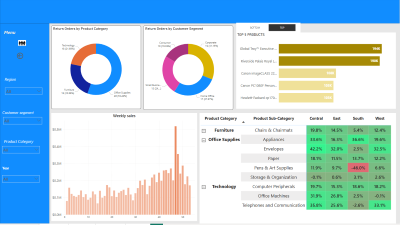

The dashboard page shown, as its layout file describes it:
{"tool":"powerbi","page":{"name":"Product ","canvas":[1920,1080],"ordinal":1},"visuals":[{"type":"shape","box":[0,0,1920.4,118.6],"z":0},{"type":"slicer","fields":{"Values":["Customer.Customer Segment"]},"box":[3.9,558.8,207.6,61],"z":0,"group":"g1"},{"type":"slicer","fields":{"Values":["Customer.Region"]},"box":[14.1,417.3,198.8,64.5],"z":1000,"group":"g1"},{"type":"pivotTable","fields":{"Rows":["Product-category.Product Category","ProductSub-category.Product Sub-Category"],"Values":["_measures.%Profit"],"Columns":["Customer.Region"]},"box":[959.3,549.4,943.6,530.2],"z":1000},{"type":"shape","box":[0,118.5,237,960.2],"z":2000},{"type":"slicer","fields":{"Values":["Product-category.Product Category"]},"box":[0.1,696.8,201.2,63.9],"z":2000,"group":"g1"},{"type":"textbox","box":[14.6,667.1,164.1,50.7],"z":3000,"group":"g1"},{"type":"clusteredColumnChart","title":"Weekly sales","fields":{"Y":["_measures.Total sales"],"Category":["Calender.Start of Week"]},"box":[245.9,549.4,701.2,518],"z":3000},{"type":"donutChart","title":"Return Orders by Product Category","fields":{"Category":["Product-category.Product Category"],"Y":["_measures.TotalReturn Orders"]},"box":[245.9,128.7,430.8,399.8],"z":4000},{"type":"textbox","box":[5.5,529,173.3,47.8],"z":4000,"group":"g1"},{"type":"textbox","box":[16.4,369.8,149.9,52.3],"z":5000,"group":"g1"},{"type":"donutChart","title":"Return Orders by Customer Segment","fields":{"Y":["_measures.TotalReturn Orders"],"Category":["Customer.Customer Segment"]},"box":[689,129.8,430.8,404],"z":5000},{"type":"slicer","fields":{"Values":["Top Products.Value"]},"box":[1135.5,115.1,308.7,47.1],"z":6000},{"type":"barChart","fields":{"Category":["Product.Product Name"],"Y":["_measures.Top & Bottom products"]},"box":[1135.5,162.2,767.4,366.3],"z":7000},{"type":"image","box":[82,188.4,47.1,47.1],"z":8000},{"type":"actionButton","box":[76.7,254.7,43.6,40.1],"z":9000},{"type":"group","id":"g1","title":"Group 1","box":[0,369.8,213,523.7],"z":10000},{"type":"textbox","box":[7,797.1,115.1,40.1],"z":11000},{"type":"textbox","box":[14,141.3,125.6,41.9],"z":11001},{"type":"slicer","fields":{"Values":["Calender.Date.Variation.Date Hierarchy.Year","Calender.Date.Variation.Date Hierarchy.Quarter","Calender.Date.Variation.Date Hierarchy.Month","Calender.Date.Variation.Date Hierarchy.Day"]},"box":[0,837.6,200,55.8],"z":21001,"group":"g1"}]}

Visuals, with their boxes in screenshot pixels (x1, y1, x2, y2), scaled from the page's 1920x1080 canvas onto the 400x225 screenshot:
shape: 0 0 399 25
slicer - Customer.Customer Segment: 1 116 44 129
slicer - Customer.Region: 3 87 44 100
pivotTable - Product-category.Product Category x ProductSub-category.Product Sub-Category: 200 114 396 224
shape: 0 25 49 224
slicer - Product-category.Product Category: 0 145 42 158
textbox: 3 139 37 150
"Weekly sales" clusteredColumnChart: 51 114 197 222
"Return Orders by Product Category" donutChart: 51 27 141 110
textbox: 1 110 37 120
textbox: 3 77 35 88
"Return Orders by Customer Segment" donutChart: 144 27 233 111
slicer - Top Products.Value: 237 24 301 34
barChart - Product.Product Name x _measures.Top & Bottom products: 237 34 396 110
image: 17 39 27 49
actionButton: 16 53 25 61
"Group 1" group: 0 77 44 186
textbox: 1 166 25 174
textbox: 3 29 29 38
slicer - Calender.Date.Variation.Date Hierarchy.Year x Calender.Date.Variation.Date Hierarchy.Quarter: 0 174 42 186
